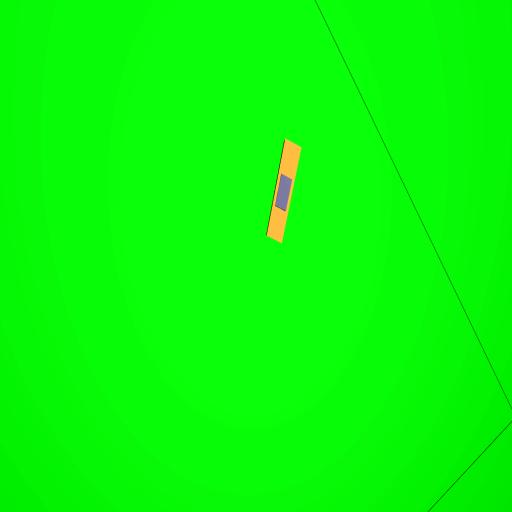objects: (265, 138, 302, 244)
